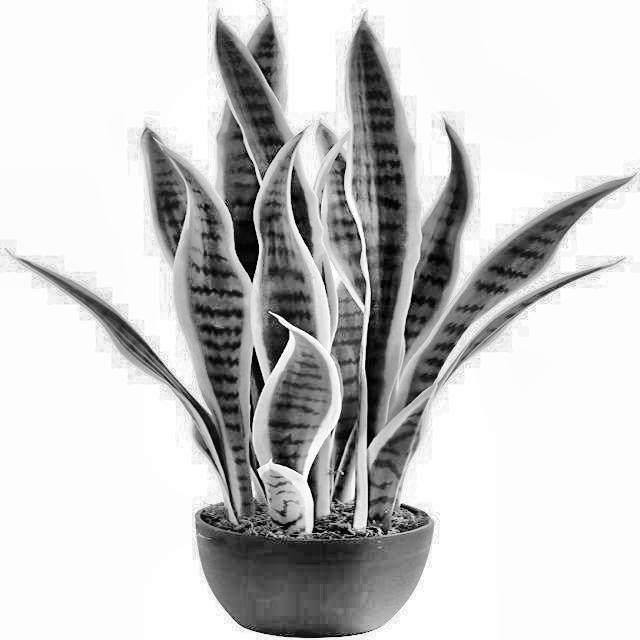plants: (0, 6, 628, 535)
